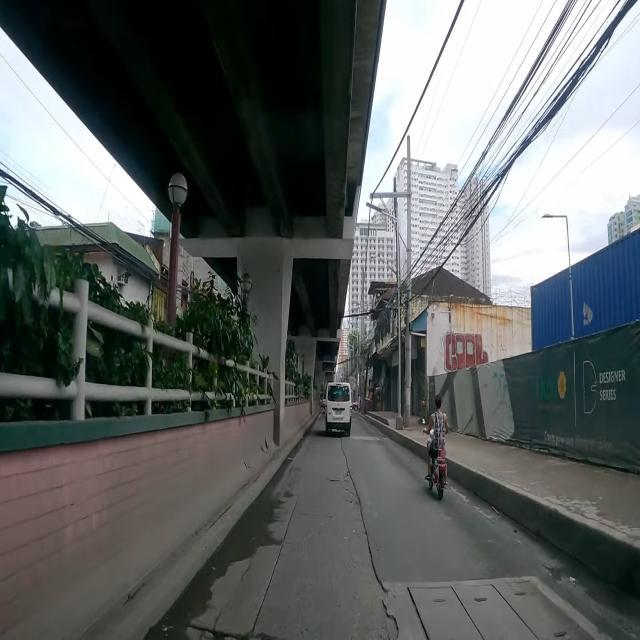car: (326, 382, 352, 436)
motorcycle: (421, 396, 449, 500)
